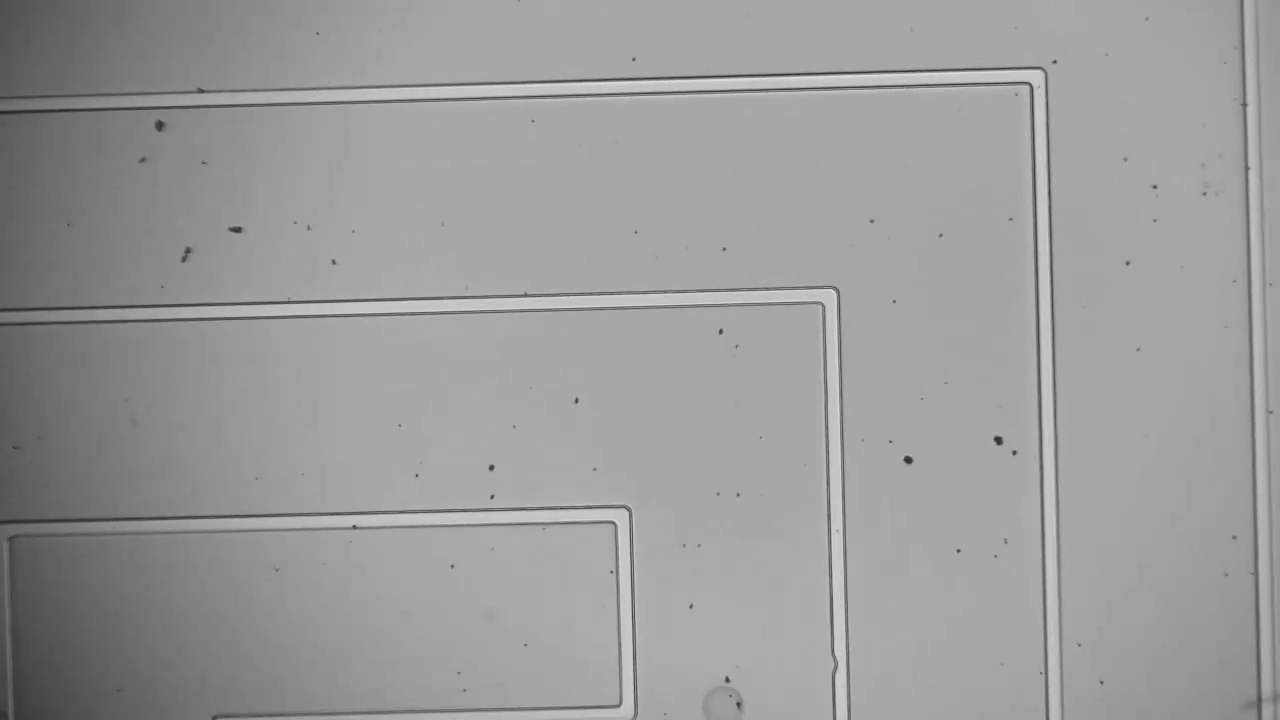edge_bite: (819, 645, 863, 686)
